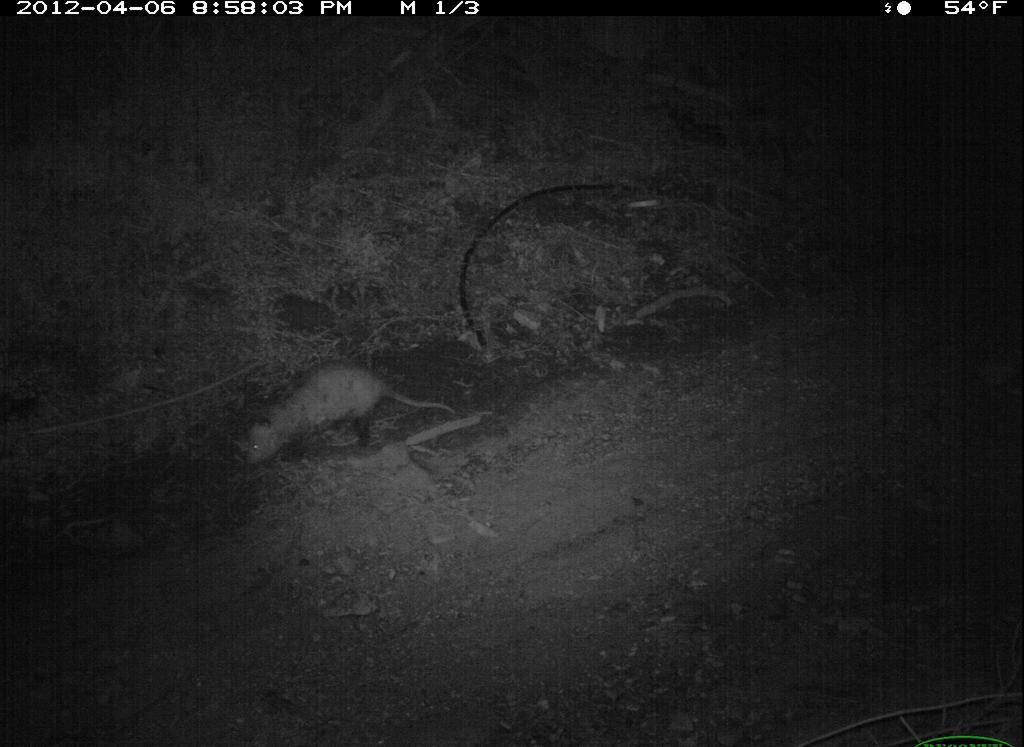opossum: (230, 363, 457, 470)
